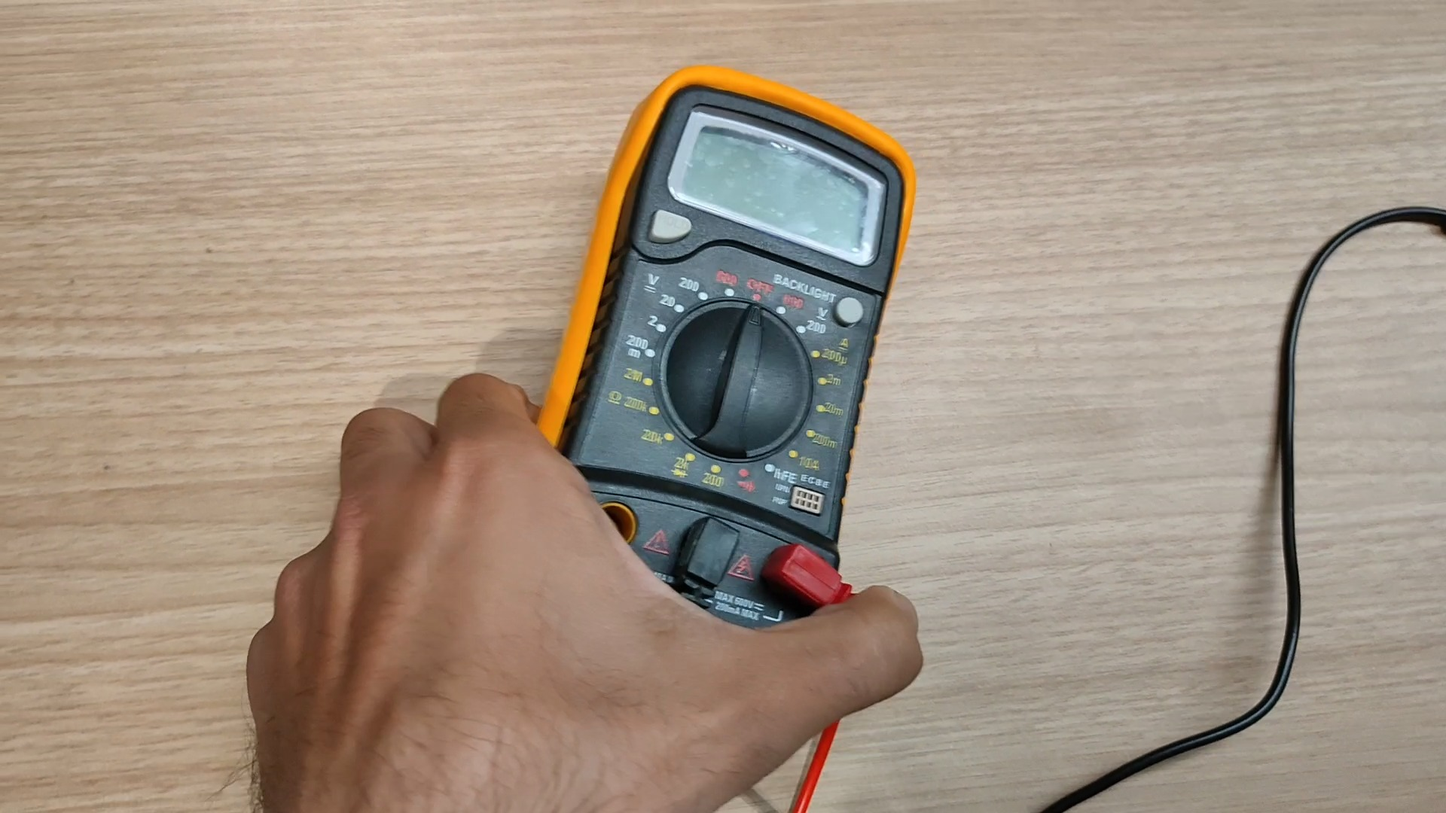multimeter: (538, 66, 914, 629)
